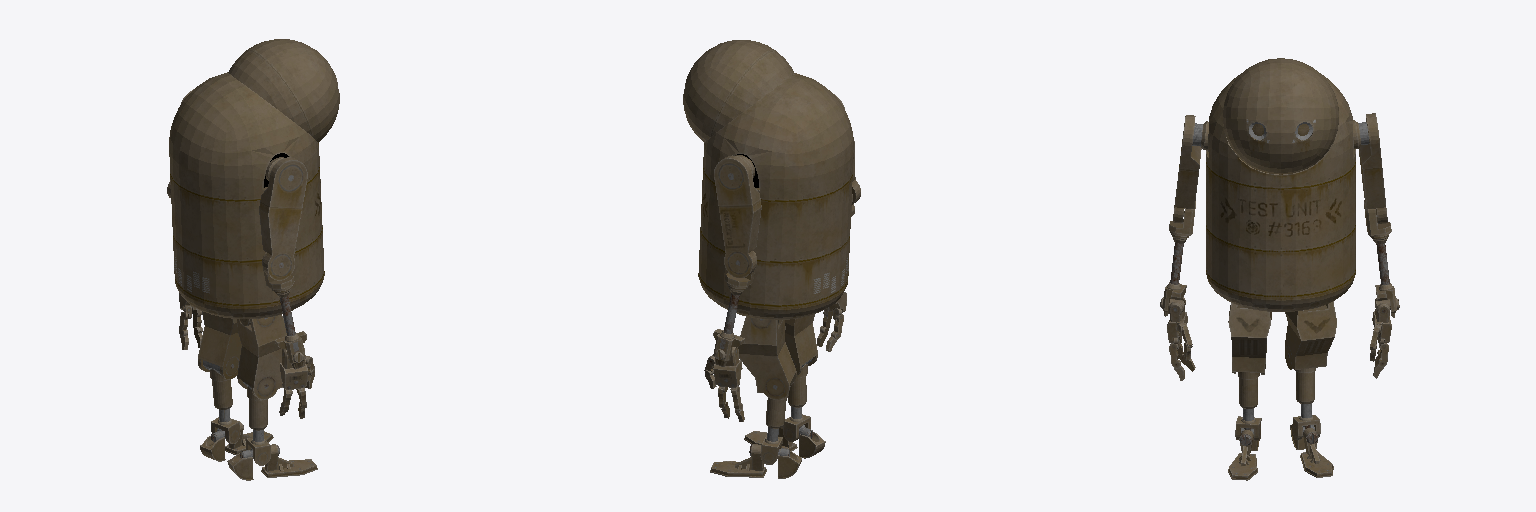
3 views of the same model, side by side, from view 1: azimuth 30°, elevation 25°; view 2: azimuth 150°, elevation 25°; view 3: azimuth 270°, elevation 25° (orthographic).
Visible parts, largest first — view 1: Object_7, Object_4, Object_5, Object_3; view 2: Object_7, Object_4, Object_5, Object_3; view 3: Object_7, Object_5, Object_3, Object_4.
Part boxes in pixels (left/top/right/bottom): Object_7: left=169, top=39, right=339, bottom=318; Object_4: left=167, top=160, right=317, bottom=478; Object_5: left=179, top=89, right=307, bottom=457; Object_3: left=180, top=209, right=317, bottom=480; Object_7: left=683, top=40, right=853, bottom=319; Object_4: left=706, top=158, right=860, bottom=477; Object_5: left=713, top=94, right=854, bottom=456; Object_3: left=704, top=142, right=855, bottom=478; Object_7: left=1206, top=58, right=1355, bottom=311; Object_5: left=1160, top=113, right=1399, bottom=444; Object_3: left=1162, top=144, right=1398, bottom=480; Object_4: left=1169, top=116, right=1388, bottom=479.
Bounding box in the file's own units: 0.6667 × 1.71 × 0.903.
3 materials, 2 textured.